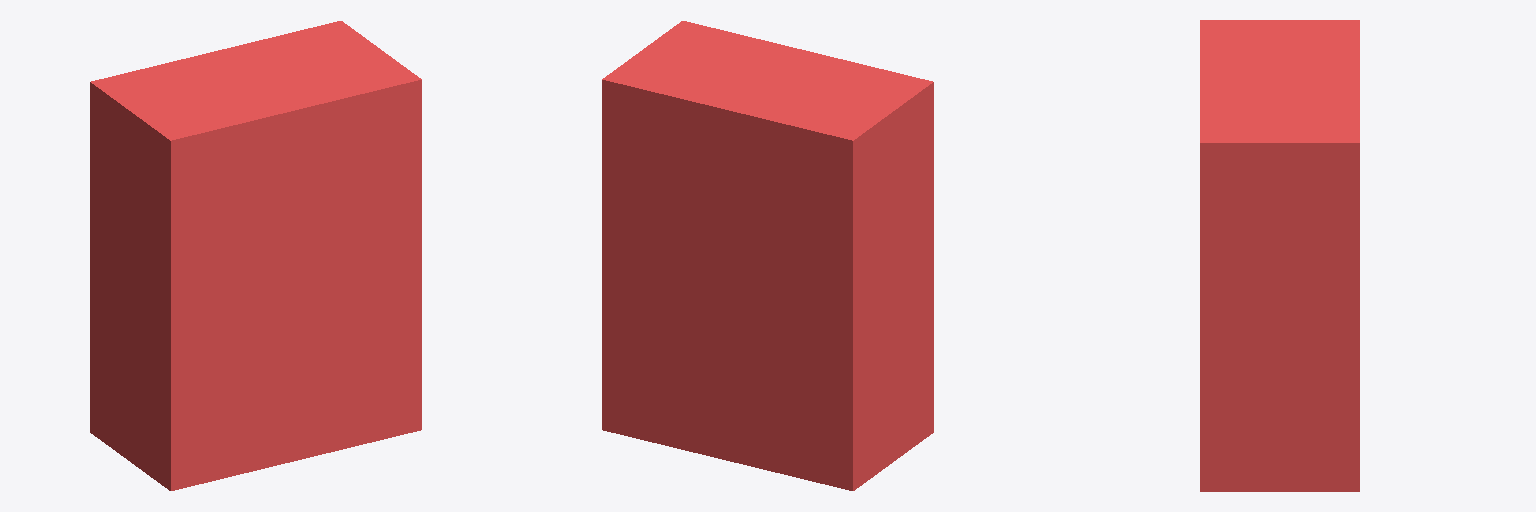
robot.urdf — soda:
<?xml version="1.0"?>
<robot name="soda">
  <link name="soda">
    <inertial>
      <!--origin xyz="0 0 0" rpy="0 0 0" /-->
      <mass value="0.068" />
      <inertia ixx="0.0000600666644"  ixy="0" ixz="0" iyy="0.0000957666644" iyz="0"
          izz="0.000560592" />
    </inertial>
    <visual>
      <!--origin xyz="0 0 0" rpy="0 0 0" /-->
      <geometry>
        <box size="0.09 0.05 0.12" />
      </geometry>
      <material name="salmon">
        <color rgba="1.0 0.4 0.4 1" />
      </material>
    </visual>
    <!--
      This places contact spheres on the corners of the visual box and a
      *slightly* smaller inset contact box (centered on the visual origin). This
      accounts for issues in the contact computation providing stable table
      contact *and* supports grasping.

      When the box is in stable contact with the ground plane, the corner
      spheres will provide fixed contact points (simulating distributed contact
      points around the face).  However, for arbitrary grip configuration, the
      slightly inset box will provide contact with a *slight* offset (in this
      case a deviation of 0.0005 m from the visual surface).
     -->
    <collision>
      <geometry>
        <box size="0.089 0.049 0.119" />
      </geometry>
    </collision>

    <collision>
      <origin xyz="-0.045 -0.025 -0.06" rpy="0 0 0"/>
      <geometry>
        <sphere radius="1e-7"/>
      </geometry>
    </collision>
    <collision>
      <origin xyz="-0.045 0.025 -0.06" rpy="0 0 0"/>
      <geometry>
        <sphere radius="1e-7"/>
      </geometry>
    </collision>
    <collision>
      <origin xyz="0.045 0.025 -0.06" rpy="0 0 0"/>
      <geometry>
        <sphere radius="1e-7"/>
      </geometry>
    </collision>
    <collision>
      <origin xyz="0.045 -0.025 -0.06" rpy="0 0 0"/>
      <geometry>
        <sphere radius="1e-7"/>
      </geometry>
    </collision>

    <collision>
      <origin xyz="-0.045 -0.025 0.06" rpy="0 0 0"/>
      <geometry>
        <sphere radius="1e-7"/>
      </geometry>
    </collision>
    <collision>
      <origin xyz="-0.045 0.025 0.06" rpy="0 0 0"/>
      <geometry>
        <sphere radius="1e-7"/>
      </geometry>
    </collision>
    <collision>
      <origin xyz="0.045 0.025 0.06" rpy="0 0 0"/>
      <geometry>
        <sphere radius="1e-7"/>
      </geometry>
    </collision>
    <collision>
      <origin xyz="0.045 -0.025 0.06" rpy="0 0 0"/>
      <geometry>
        <sphere radius="1e-7"/>
      </geometry>
    </collision>
   </link>
</robot>

--- What the picture shows (computed from the rendered views, not written in the file) ---
The picture shows the robot from 3 angles, left to right: view 1: azimuth 30°, elevation 25°; view 2: azimuth 150°, elevation 25°; view 3: azimuth 270°, elevation 25°; orthographic projection.
Model soda with 1 links and 0 joints (none), rooted at soda, posed all joints at 0.
Visible links, largest first — view 1: soda; view 2: soda; view 3: soda.
Link boxes in pixels (<box>): soda: <box>90,21,421,490</box>; soda: <box>602,21,933,490</box>; soda: <box>1200,20,1359,491</box>.
Bounding box of the posed robot: 0.09 × 0.05 × 0.12 m (x, y, z).
Geometry: primitives only (box / cylinder / sphere), no mesh files.